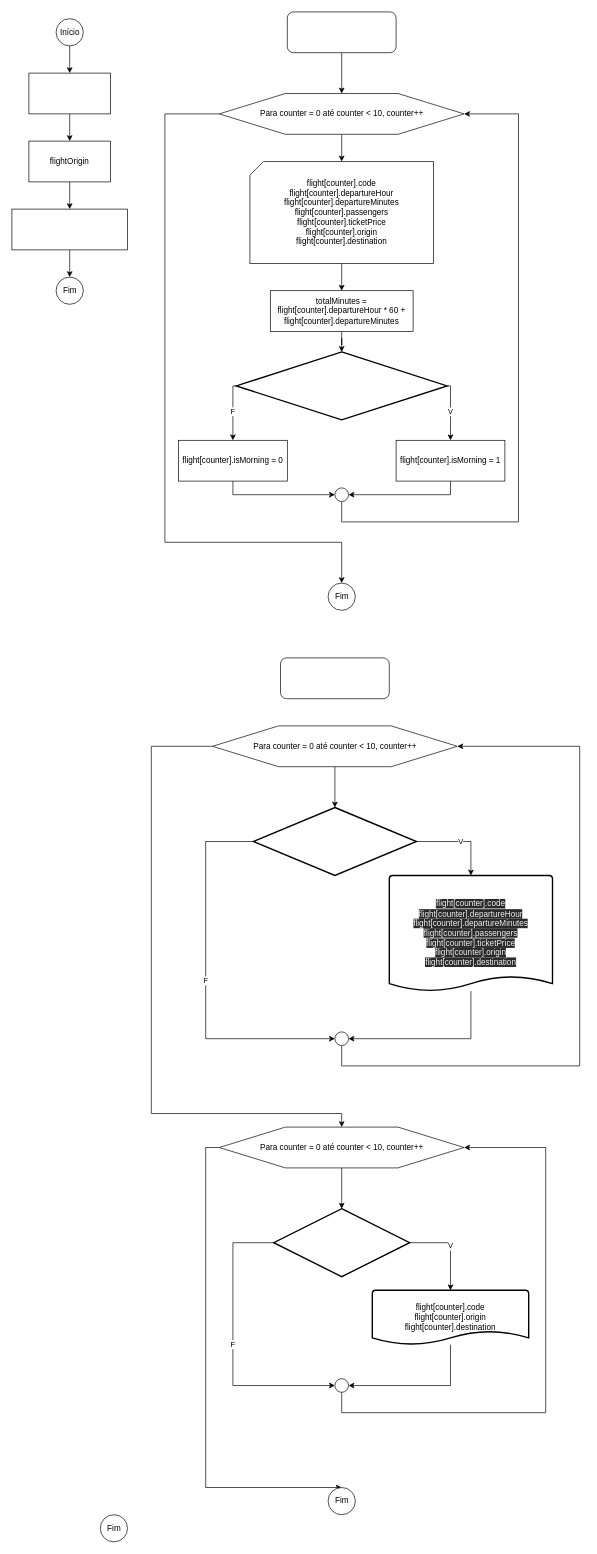
The diagram is 597 pixels wide and 1554 high, and some of its shapes have lost their labels. Here are the shapes that lost their labels. From the top down, the box of each, then its label:
(287, 11, 396, 53): registerSchedule Entradas: flight[10] Saídas: não tem
(28, 72, 111, 114): registerSchedule(flight)
(11, 208, 128, 250): morningFlights(flightOrigin, flight)
(235, 351, 447, 420): (totalMinutes >= 300 && totalMinutes <= 720)
(280, 657, 389, 699): morningFlights Entradas: flightOrigin, flight[10] Saídas: não tem
(252, 806, 417, 876): (flightOrigin == flight[counter].origin)
(273, 1208, 410, 1277): (flight[counter].isMorning == 1)
